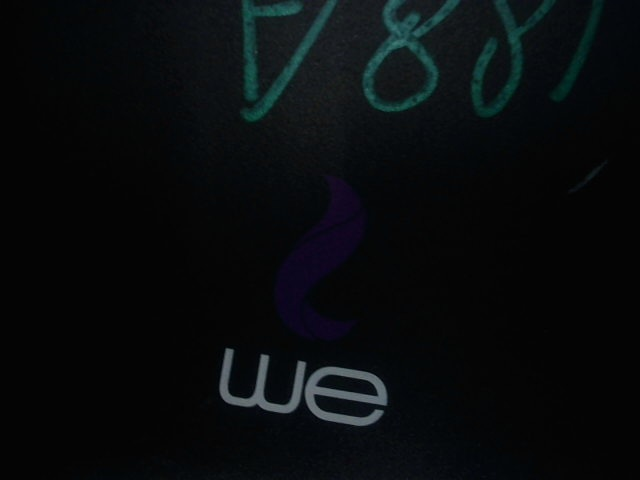AT_We: (216, 161, 404, 428)
